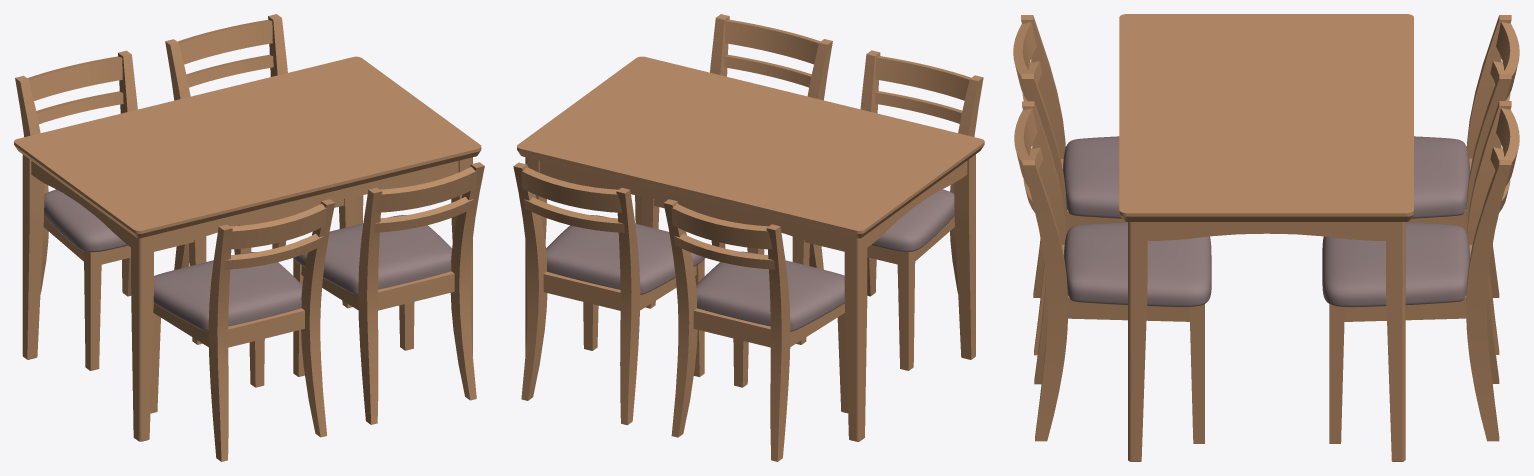
The model's file is 木製テーブル４人掛け_茶色濃いめ.fbx.
The picture shows the model from 3 angles, left to right: view 1: azimuth 30°, elevation 25°; view 2: azimuth 150°, elevation 25°; view 3: azimuth 270°, elevation 25°; orthographic projection. The views are drawn at different scales.
Visible parts, largest first — view 1: Body, chair3, chair4, chair1, chair2; view 2: Body, chair1, chair2, chair3, chair4; view 3: Body, chair2, chair4, chair3, chair1.
Boxes of the visible parts, bbox=[...] form: Body: bbox=[14, 56, 481, 441]; chair3: bbox=[150, 199, 334, 461]; chair4: bbox=[293, 162, 484, 424]; chair1: bbox=[15, 50, 206, 370]; chair2: bbox=[165, 14, 356, 308]; Body: bbox=[517, 56, 984, 441]; chair1: bbox=[663, 199, 847, 461]; chair2: bbox=[513, 162, 704, 425]; chair3: bbox=[792, 50, 983, 370]; chair4: bbox=[642, 14, 832, 308]; Body: bbox=[1119, 14, 1413, 461]; chair2: bbox=[1322, 101, 1519, 443]; chair4: bbox=[1014, 101, 1211, 443]; chair3: bbox=[1013, 15, 1127, 355]; chair1: bbox=[1406, 15, 1519, 354].
Size of the model in its own units: 120 by 78 by 129.
